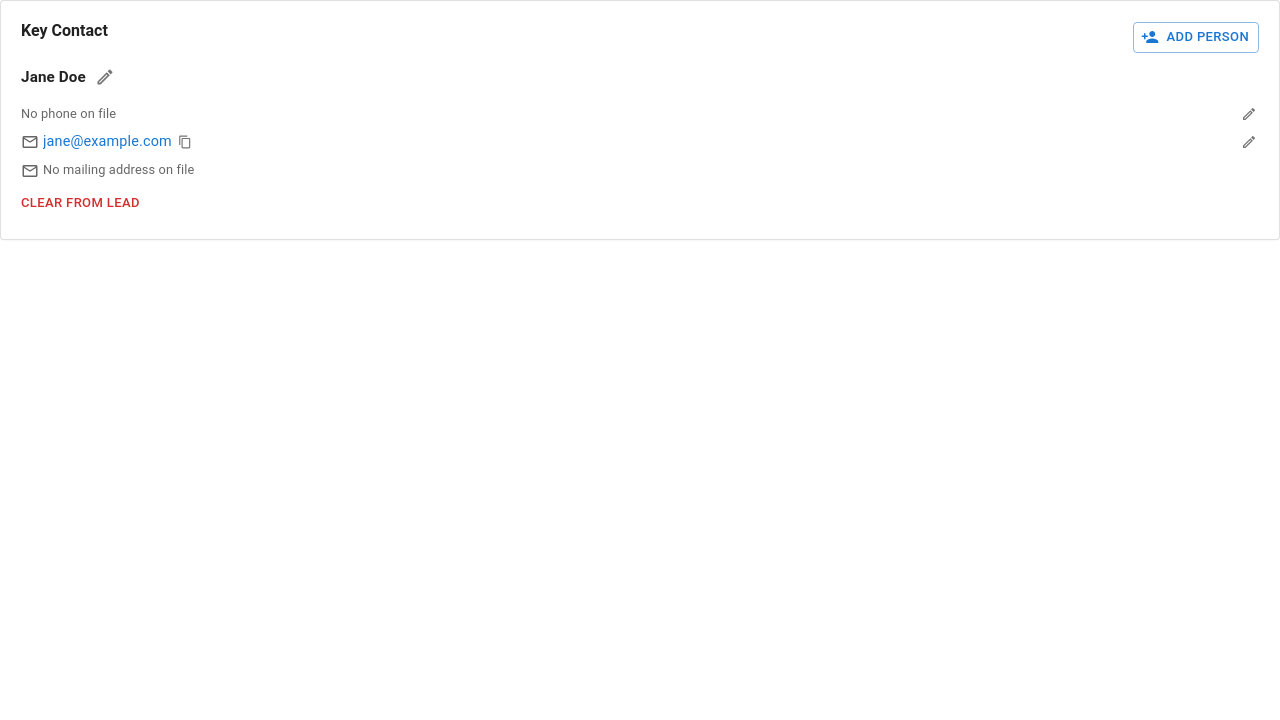
Test: KeyContactCard › rejects invalid inline email values before saving
The width and height of the screenshot is (1280, 720).
Click the button with test id "key-contact-email-edit". click: (1249, 142)
box: [1239,132,1259,152]
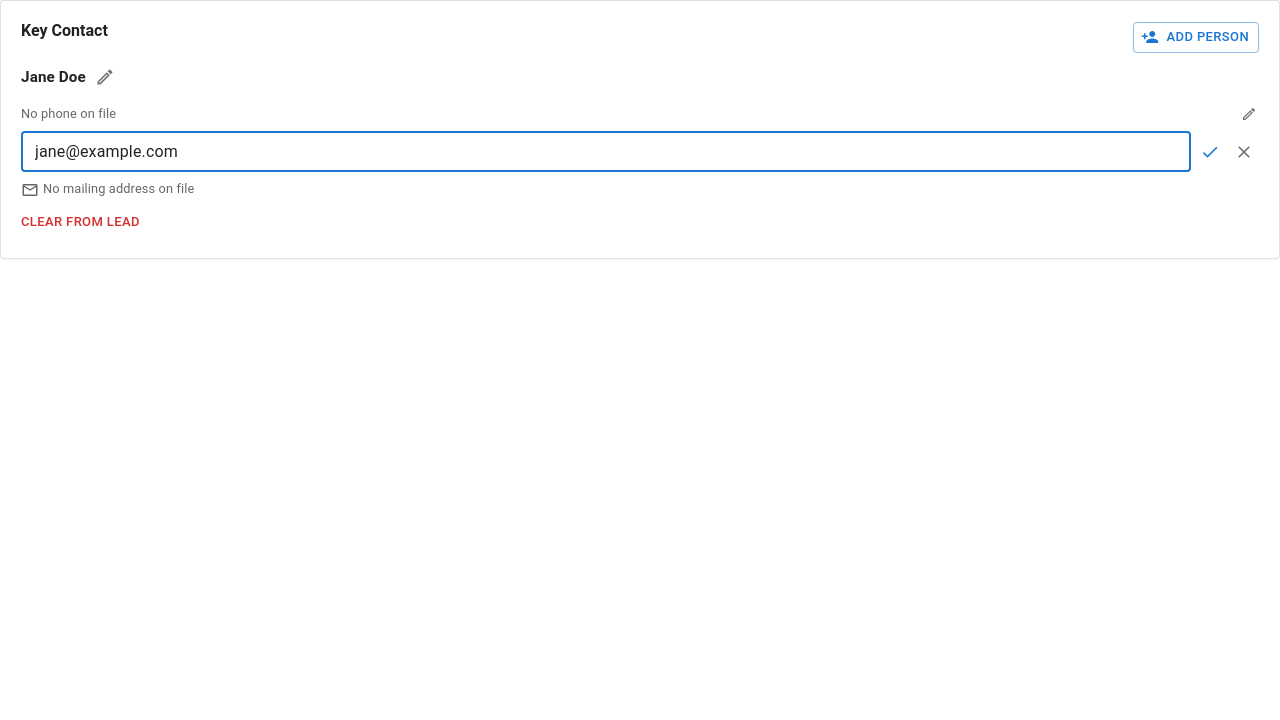
Replace the text in the field with test id "key-contact-email-edit-input" with "not an email". click: (606, 152)
box: [21,132,1191,172]
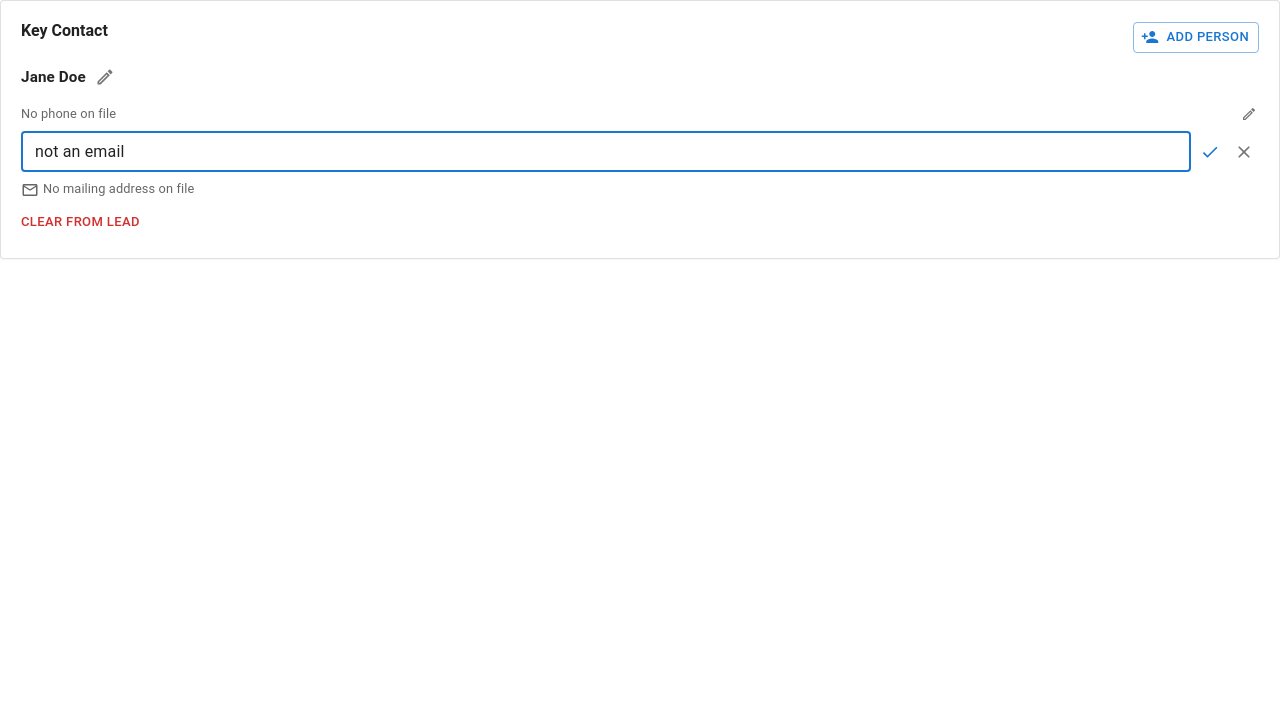
Click the button named "Save email". click: (1210, 152)
box: [1195,137,1225,167]
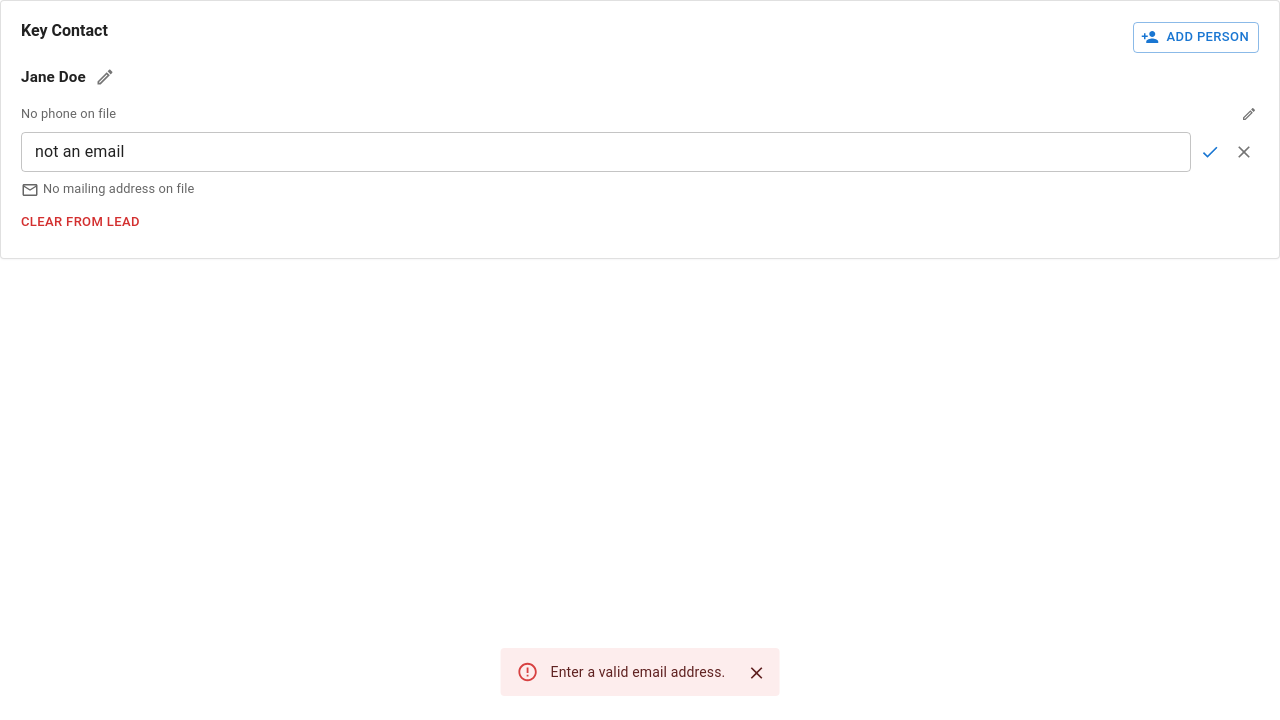
expect the text "Enter a valid email address." is shown: met, box [551,664,726,680]
